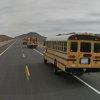Bus: (40, 29, 100, 76)
